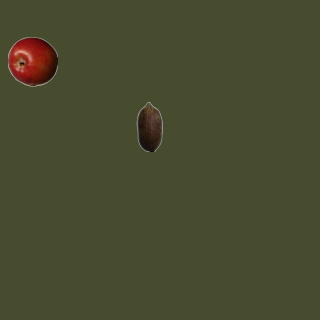Apple Braeburn: (7, 36, 57, 86)
Nut Pecan: (124, 101, 174, 151)
